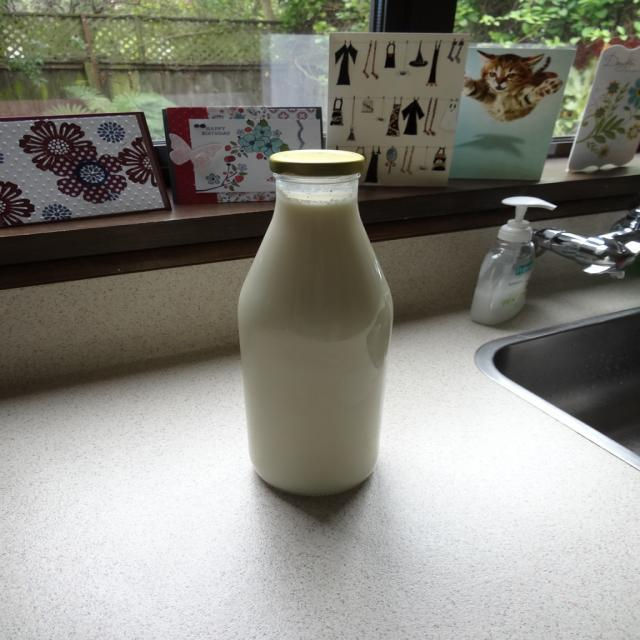Milk: (238, 188, 394, 497)
